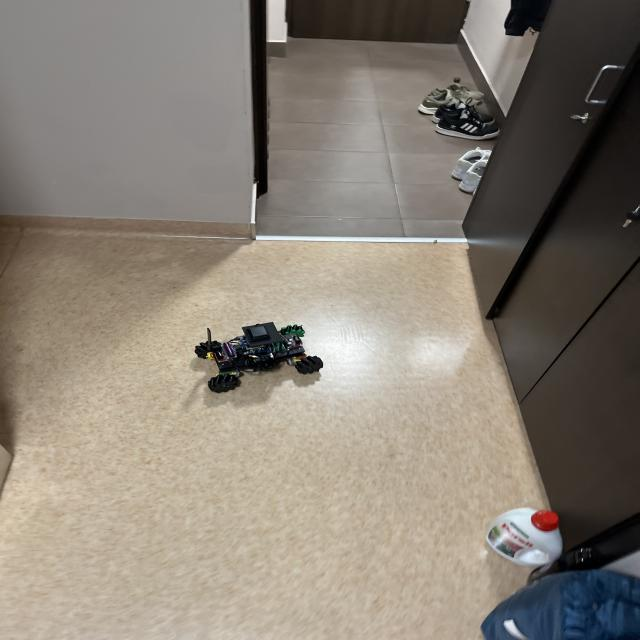robot: (194, 322, 322, 392)
